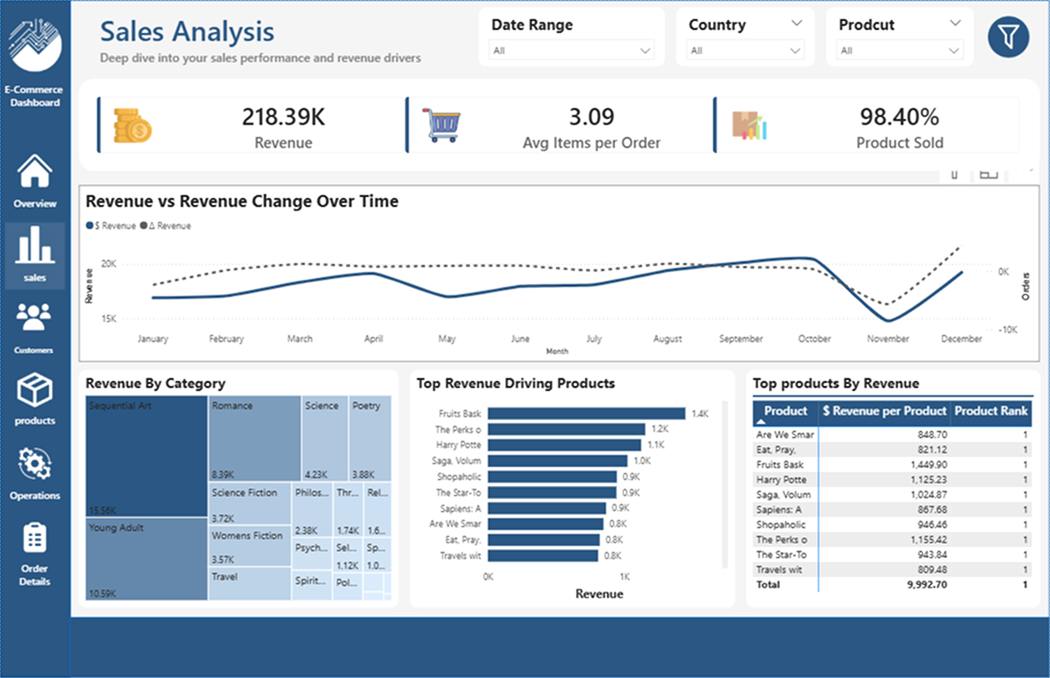

What the dashboard file says about the page in this screenshot:
{"tool":"powerbi","page":{"name":"Sales","canvas":[1400,920],"ordinal":1},"visuals":[{"type":"shape","box":[94,0,1306,824],"z":0},{"type":"image","box":[22.5,492.4,46.7,55.8],"z":0,"group":"g3"},{"type":"image","box":[22.6,590.8,46.7,55.8],"z":0,"group":"g5"},{"type":"image","box":[22.8,688.5,46.7,55.8],"z":0,"group":"g6"},{"type":"textbox","box":[10.8,548.2,70,29.2],"z":1000,"group":"g3"},{"type":"textbox","box":[6.8,647.1,80,29.2],"z":1000,"group":"g5"},{"type":"textbox","box":[12,744,69,51],"z":1000,"group":"g6"},{"type":"shape","box":[94,824,1306,80],"z":1000},{"type":"shape","box":[0,0,94,904],"z":2000},{"type":"lineChart","title":"Revenue vs Revenue Change Over Time","fields":{"Category":["DateTable.Date.Variation.Date Hierarchy.Month"],"Y":["_Measures.$ Revenue"],"Y2":["_Measures.Δ Revenue"]},"box":[105,246.7,1281.7,236.7],"z":3000},{"type":"treemap","title":"Revenue By Category","fields":{"Group":["categories.category_name"],"Values":["_Measures.$ Revenue"]},"box":[105,493.3,426.7,316.7],"z":4000},{"type":"barChart","title":"Top Revenue Driving Products","fields":{"Category":["products.Product"],"Y":["_Measures.$ Revenue"]},"box":[546.7,493.3,433.3,316.7],"z":5000},{"type":"cardVisual","fields":{"Data":["_Measures.$ Revenue","_Measures.Avg Items per Order","_Measures.% Products Sold"]},"box":[105,105,1281.7,123.3],"z":6000},{"type":"image","box":[12,24,70,74],"z":7000},{"type":"textbox","box":[128.3,10,360,66.7],"z":8000},{"type":"pivotTable","title":"Top  products By Revenue","fields":{"Rows":["products.Product"],"Values":["_Measures.$ Revenue per Product","_Measures.Product Rank"]},"box":[995,493.3,391.7,316.7],"z":9000},{"type":"textbox","box":[128.3,60,460,38.3],"z":10000},{"type":"image","box":[1313.3,21.7,63.3,55],"z":11000},{"type":"slicer","fields":{"Values":["DateTable.Year","DateTable.Month"]},"box":[638.3,10,248.3,78.3],"z":12000},{"type":"slicer","fields":{"Values":["products.Product"]},"box":[1101.7,10,196.7,78.3],"z":13000},{"type":"textbox","box":[0,104.3,93.5,48.7],"z":14000},{"type":"group","id":"g1","title":"Group 1","box":[11.7,200,70,85],"z":15000},{"type":"group","id":"g2","title":"Group 2","box":[7,297,80,90],"z":16000},{"type":"group","id":"g3","title":"Group 4","box":[10.8,492.4,70,85],"z":17000},{"type":"group","id":"g4","title":"Group 2","box":[9.2,394.9,70,85],"z":18000},{"type":"slicer","fields":{"Values":["customers.country"]},"box":[901.7,10,185,78.3],"z":19000},{"type":"image","box":[23.4,200,46.7,55.8],"z":20000,"group":"g1"},{"type":"group","id":"g5","title":"Group 4","box":[6.8,590.8,80,85.4],"z":20000},{"type":"textbox","box":[11.7,255.8,70,29.2],"z":21000,"group":"g1"},{"type":"group","id":"g6","title":"Group 4","box":[12,688.5,69,106.5],"z":21000},{"type":"image","box":[20.3,297,53.3,59.1],"z":22000,"group":"g2"},{"type":"image","box":[20.9,394.9,46.7,55.8],"z":22000,"group":"g4"},{"type":"textbox","box":[7,356.1,80,30.9],"z":23000,"group":"g2"},{"type":"textbox","box":[9.2,450.7,70,29.2],"z":23000,"group":"g4"}]}

Visuals, with their boxes on the page's 1400x920 design canvas (x1, y1, x2, y2). These are canvas units, not pixel positions in the 1050x678 screenshot, which may show the page scaled, cropped or inside an application window:
shape: l=94, t=0, r=1400, b=824
image: l=22, t=492, r=69, b=548
image: l=23, t=591, r=69, b=647
image: l=23, t=688, r=70, b=744
textbox: l=11, t=548, r=81, b=577
textbox: l=7, t=647, r=87, b=676
textbox: l=12, t=744, r=81, b=795
shape: l=94, t=824, r=1400, b=904
shape: l=0, t=0, r=94, b=904
"Revenue vs Revenue Change Over Time" lineChart: l=105, t=247, r=1387, b=483
"Revenue By Category" treemap: l=105, t=493, r=532, b=810
"Top Revenue Driving Products" barChart: l=547, t=493, r=980, b=810
cardVisual - _Measures.$ Revenue x _Measures.Avg Items per Order: l=105, t=105, r=1387, b=228
image: l=12, t=24, r=82, b=98
textbox: l=128, t=10, r=488, b=77
"Top  products By Revenue" pivotTable: l=995, t=493, r=1387, b=810
textbox: l=128, t=60, r=588, b=98
image: l=1313, t=22, r=1377, b=77
slicer - DateTable.Year x DateTable.Month: l=638, t=10, r=887, b=88
slicer - products.Product: l=1102, t=10, r=1298, b=88
textbox: l=0, t=104, r=94, b=153
"Group 1" group: l=12, t=200, r=82, b=285
"Group 2" group: l=7, t=297, r=87, b=387
"Group 4" group: l=11, t=492, r=81, b=577
"Group 2" group: l=9, t=395, r=79, b=480
slicer - customers.country: l=902, t=10, r=1087, b=88
image: l=23, t=200, r=70, b=256
"Group 4" group: l=7, t=591, r=87, b=676
textbox: l=12, t=256, r=82, b=285
"Group 4" group: l=12, t=688, r=81, b=795
image: l=20, t=297, r=74, b=356
image: l=21, t=395, r=68, b=451
textbox: l=7, t=356, r=87, b=387
textbox: l=9, t=451, r=79, b=480
